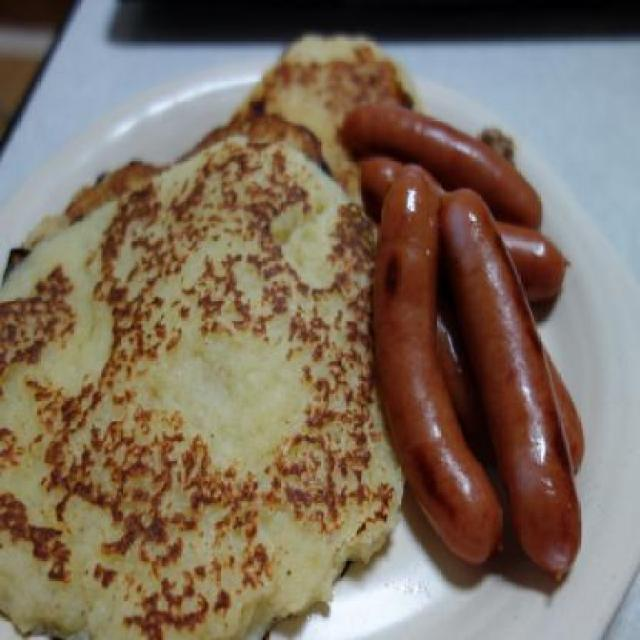Pancake: (0, 147, 382, 638), (8, 34, 424, 268)
